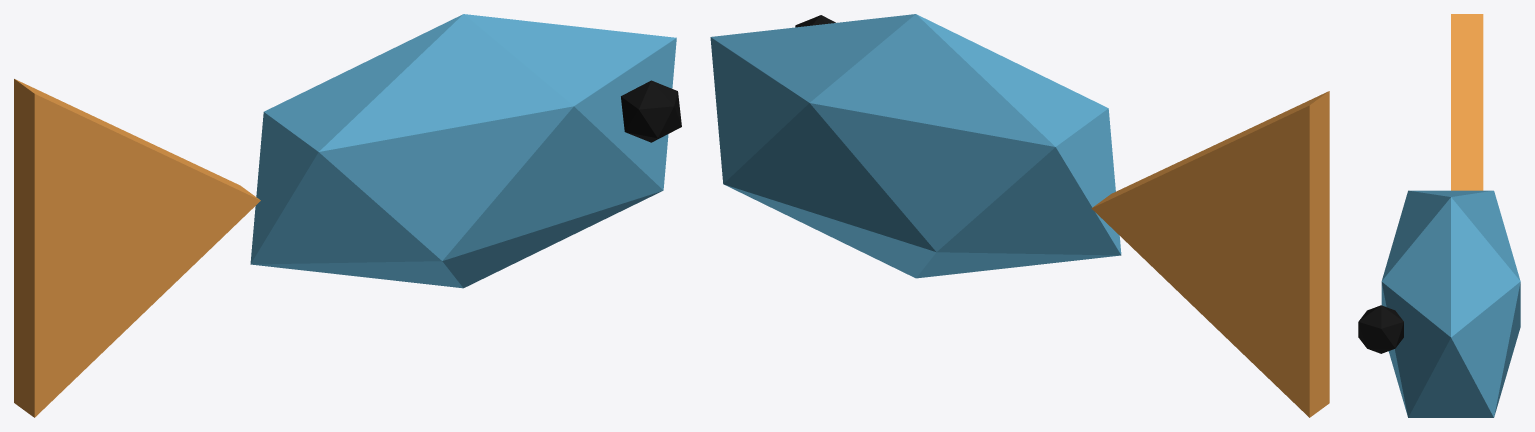
Rendered from poisson.glb.
3 renders of one model, left to right at view 1: azimuth 30°, elevation 25°; view 2: azimuth 150°, elevation 25°; view 3: azimuth 270°, elevation 25°, orthographic. The views are drawn at different scales.
Visible parts, largest first — view 1: Icosphere, queue, Icosphere.001; view 2: Icosphere, queue; view 3: Icosphere, queue, Icosphere.001.
Part boxes in pixels (<box>): Icosphere: <box>250,14,676,288</box>; queue: <box>14,79,260,417</box>; Icosphere.001: <box>621,80,681,142</box>; Icosphere: <box>710,14,1121,278</box>; queue: <box>1091,91,1329,417</box>; Icosphere: <box>1381,190,1520,417</box>; queue: <box>1451,14,1483,190</box>; Icosphere.001: <box>1358,305,1403,353</box>.
Bounding box in the file's own units: 0.5389 × 0.26 × 0.1509.
